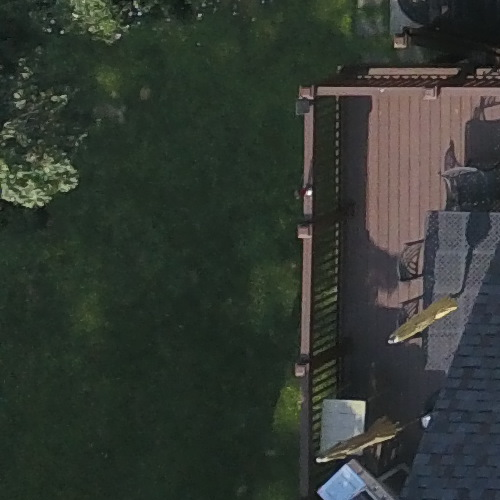porch: (267, 46, 499, 500)
